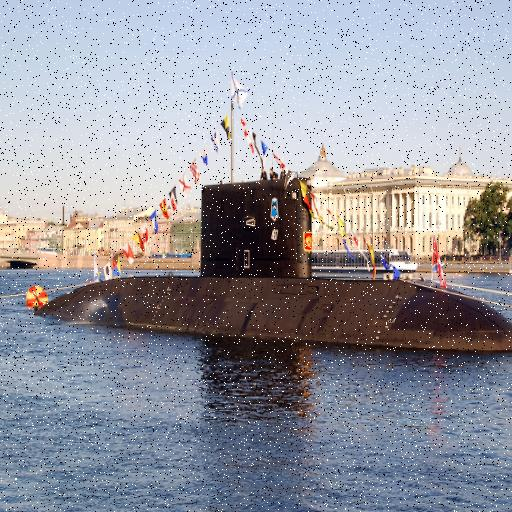submarine: (43, 181, 512, 354)
